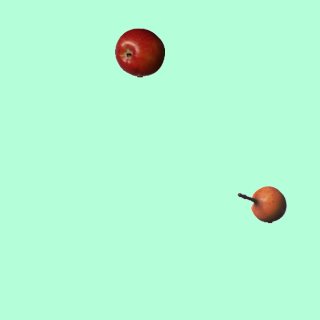Apple Braeburn: (114, 27, 164, 77)
Granadilla: (236, 179, 286, 229)
